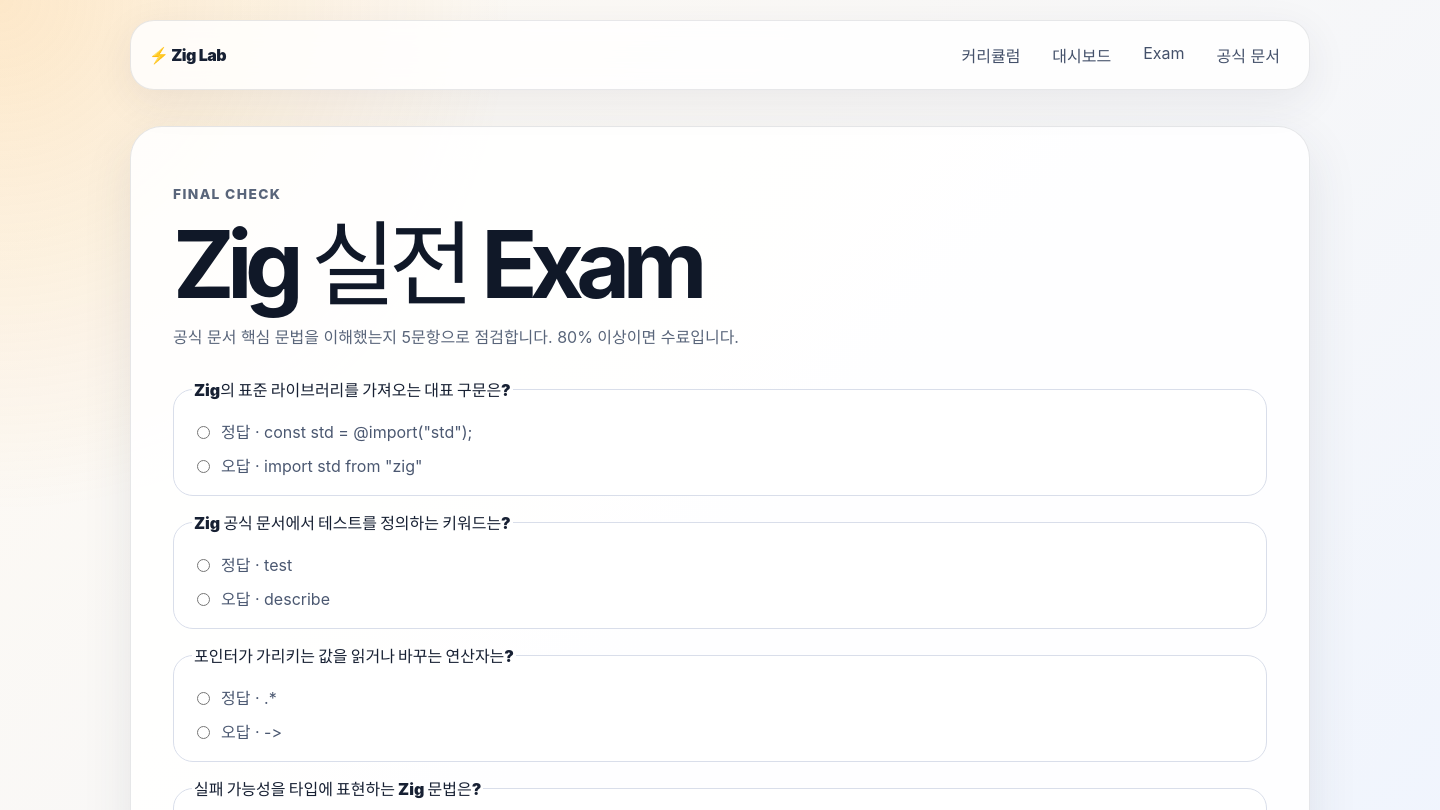
Test: Zig Learning Lab › shows exam explanations and next-study guidance after a failed attempt
The width and height of the screenshot is (1440, 810).
Click the radio button labelled "오답 · import std from \"zig\"".
click(204, 467)  # box top-left (197, 460), bottom-right (210, 473)
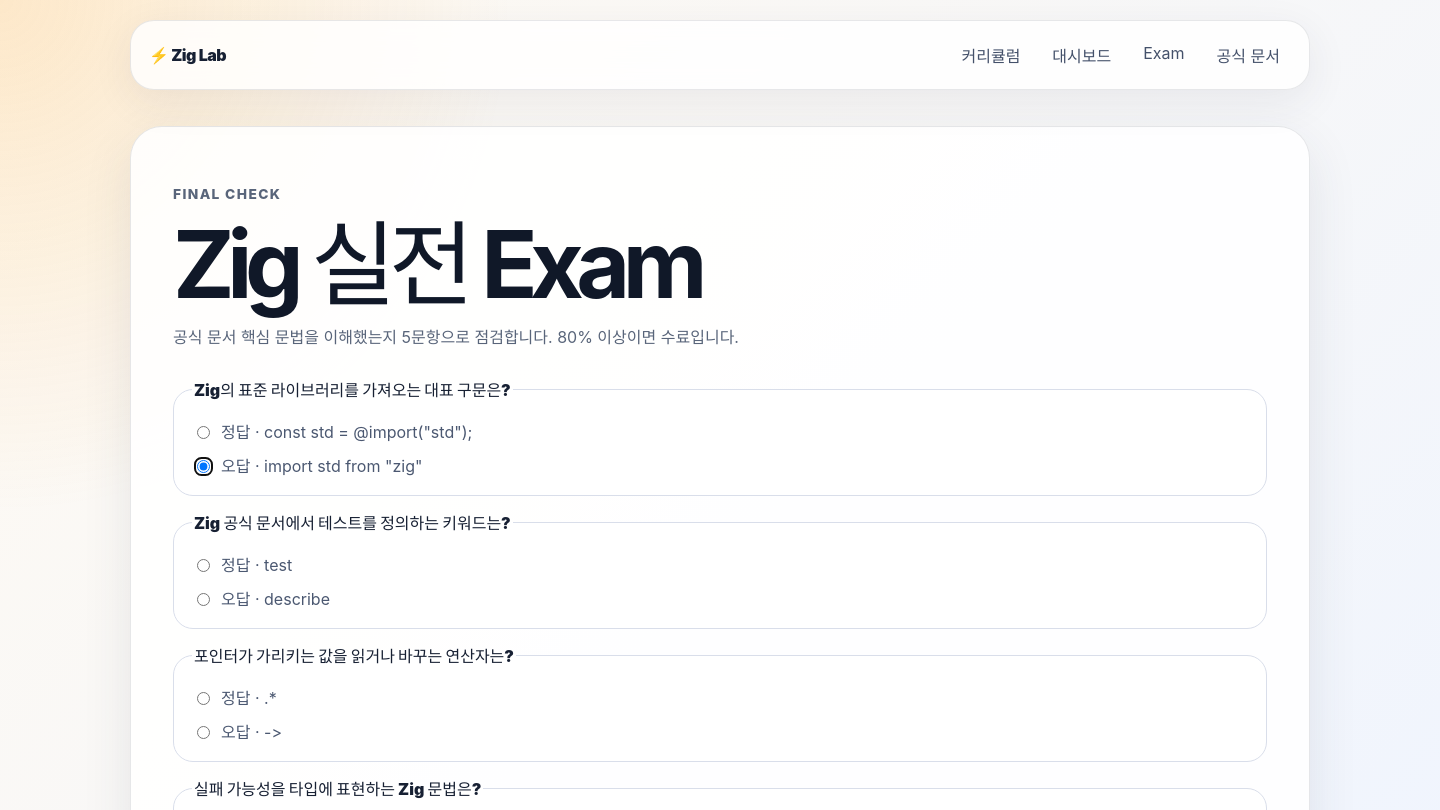
Click the radio button labelled "오답 · describe".
click(204, 600)  # box top-left (197, 593), bottom-right (210, 606)
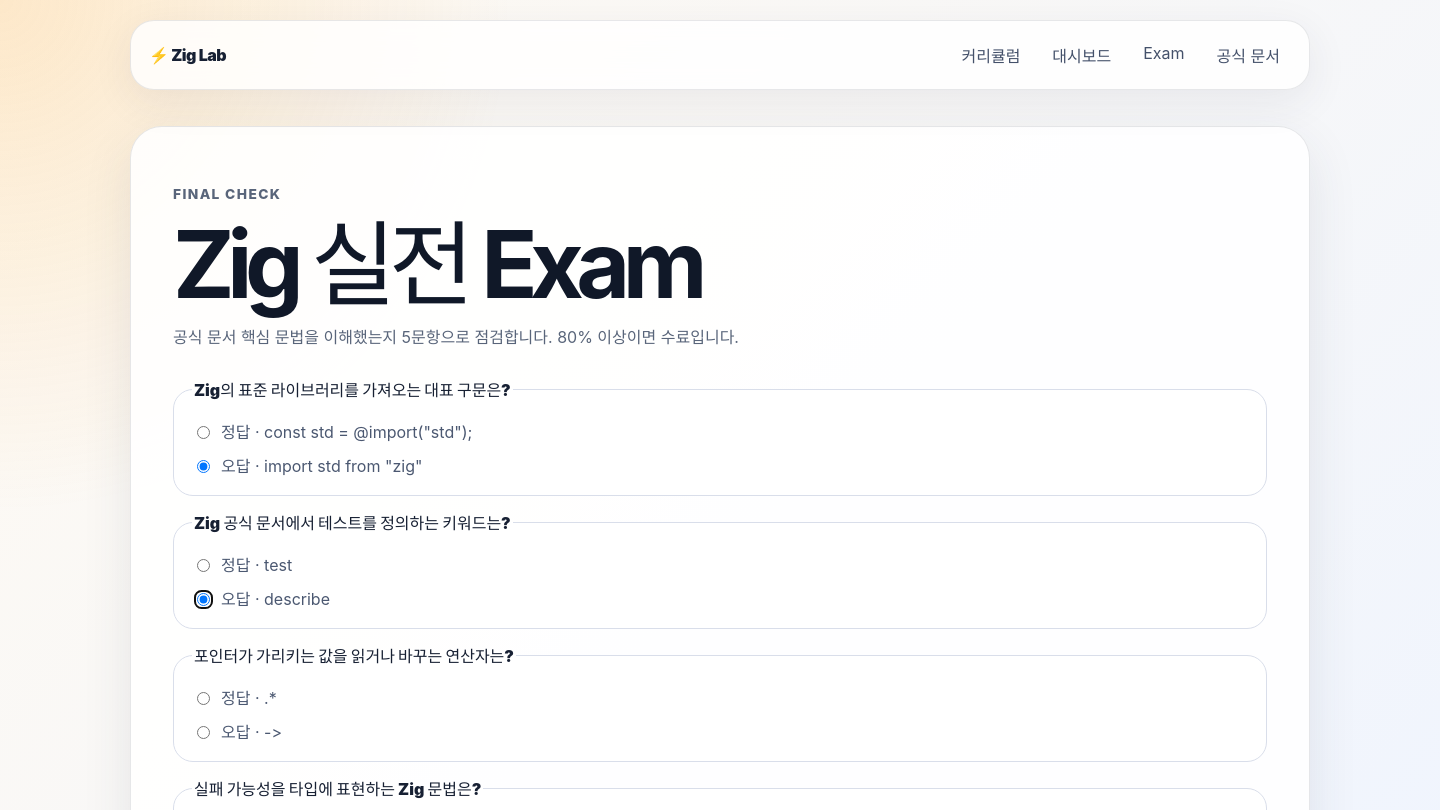
Click the radio button labelled "오답 · ->".
click(204, 733)  # box top-left (197, 726), bottom-right (210, 739)
(page scrolled)
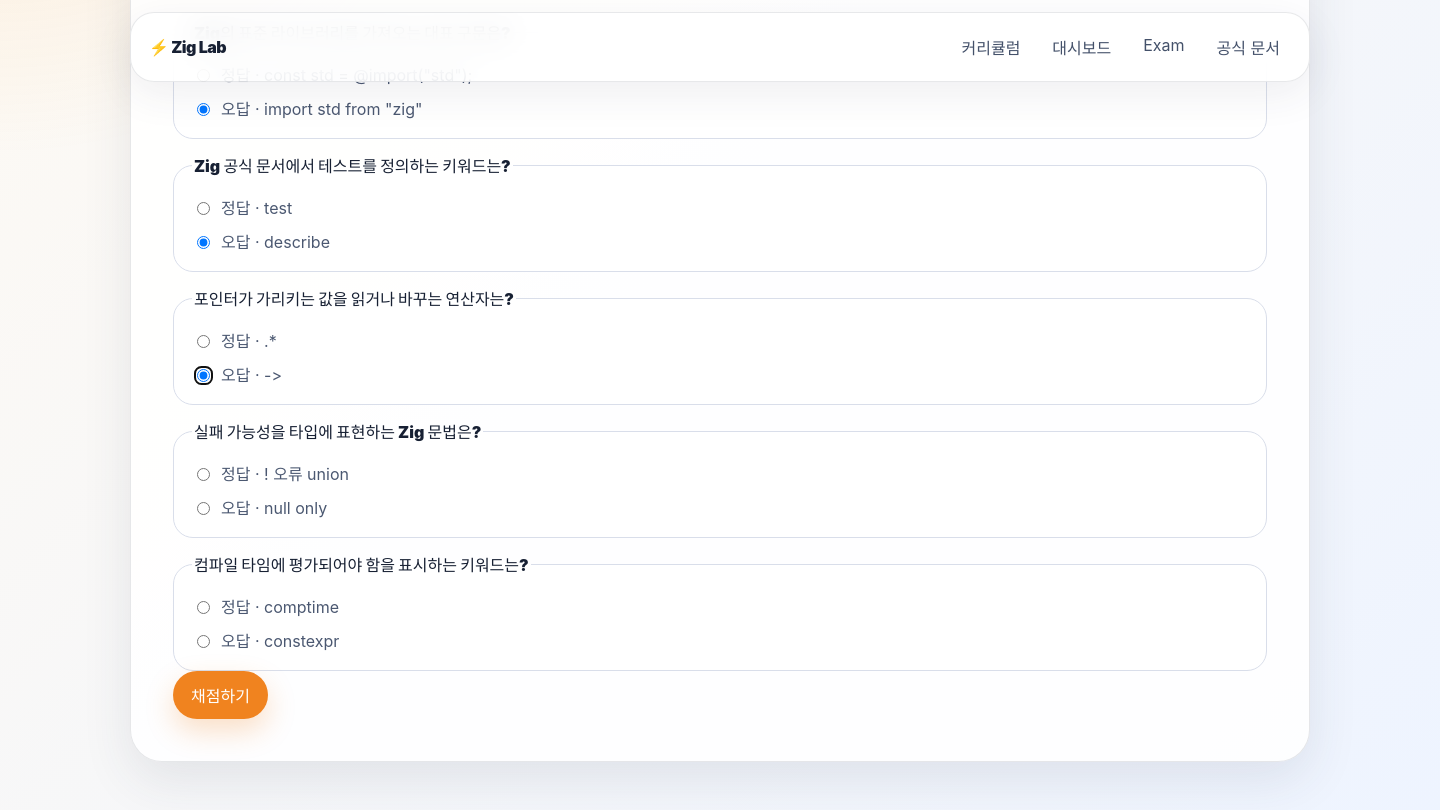
Click the radio button labelled "오답 · null only".
click(204, 509)  # box top-left (197, 502), bottom-right (210, 515)
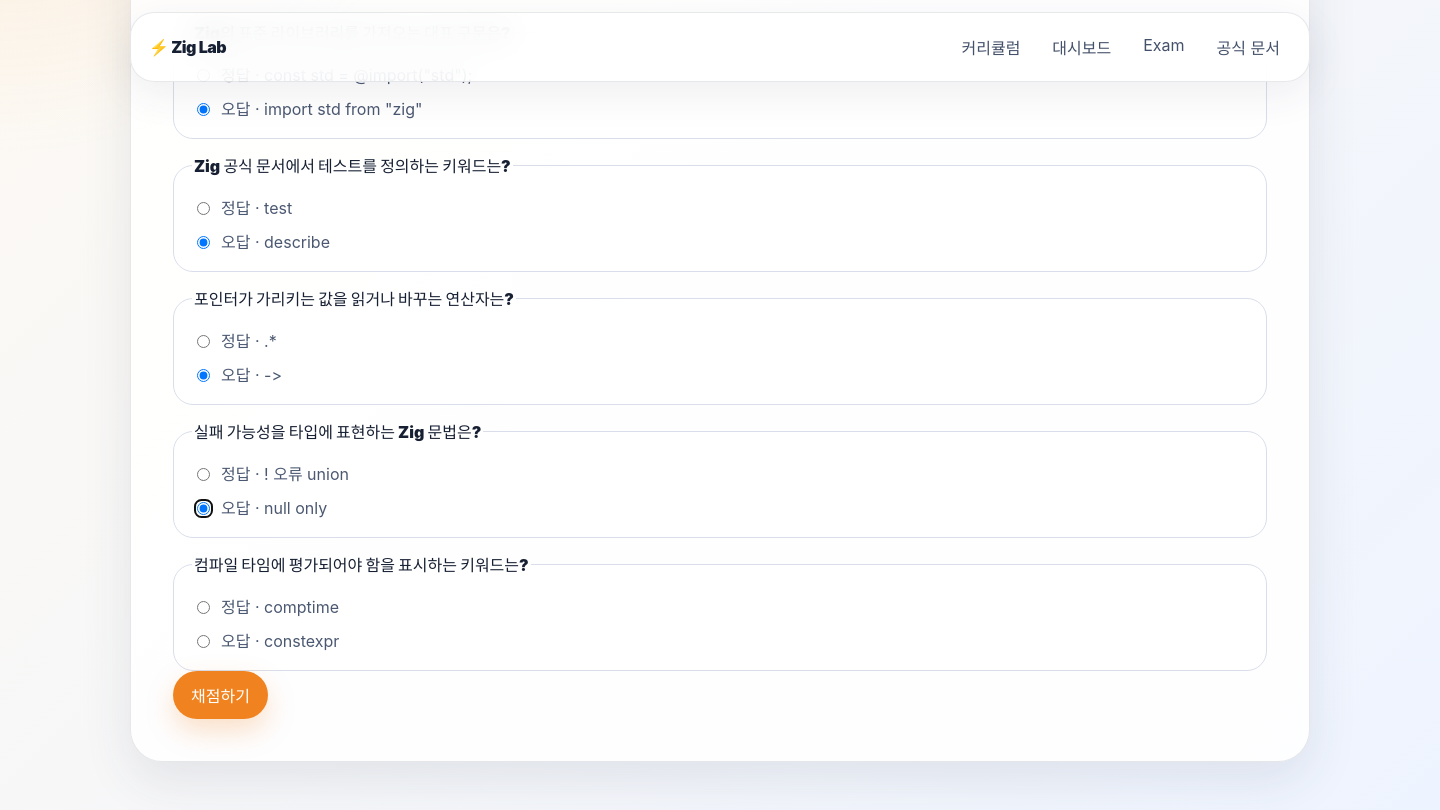
Click the radio button labelled "오답 · constexpr".
click(204, 642)  # box top-left (197, 635), bottom-right (210, 648)
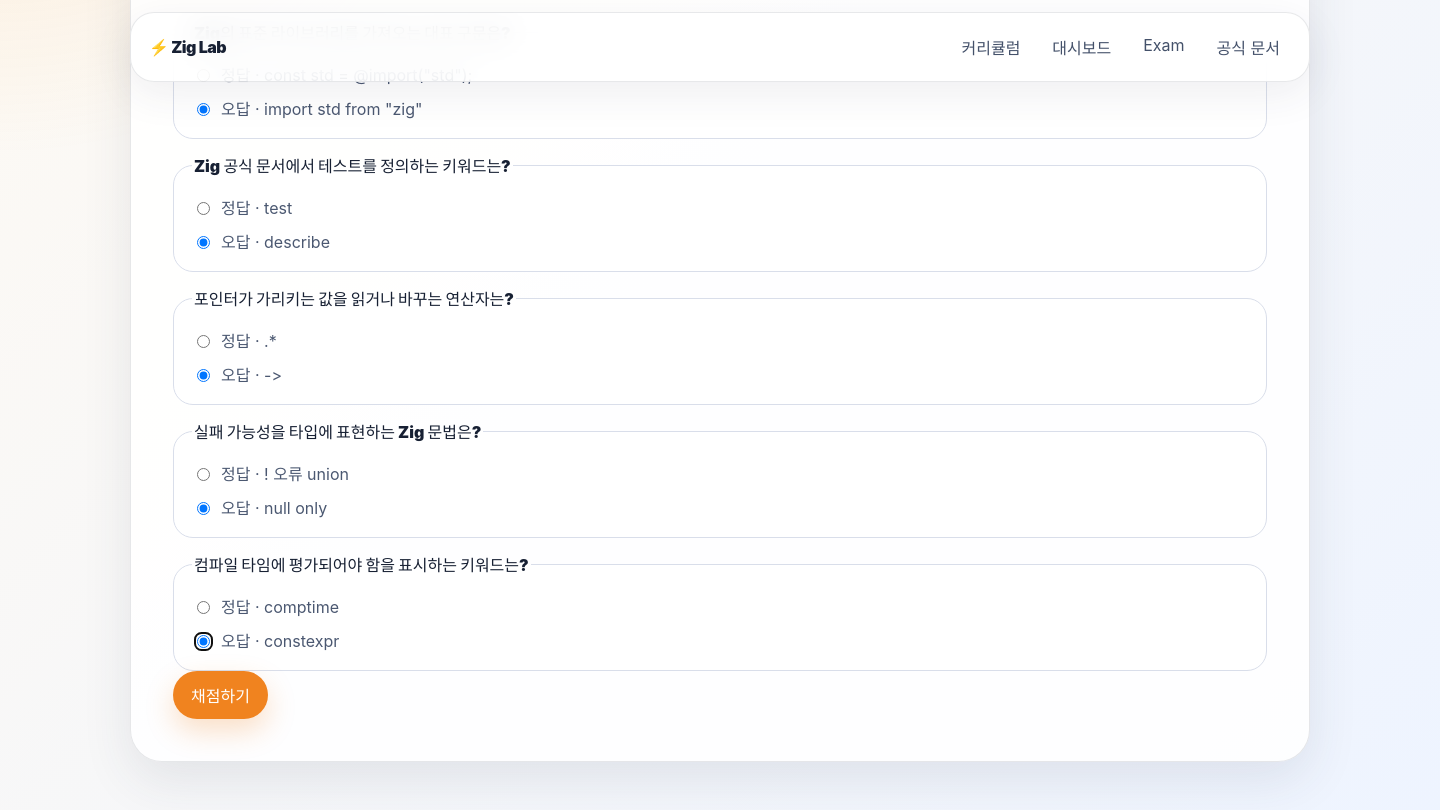
Click the button "채점하기".
click(220, 695)  # box top-left (173, 671), bottom-right (268, 719)
(page scrolled)
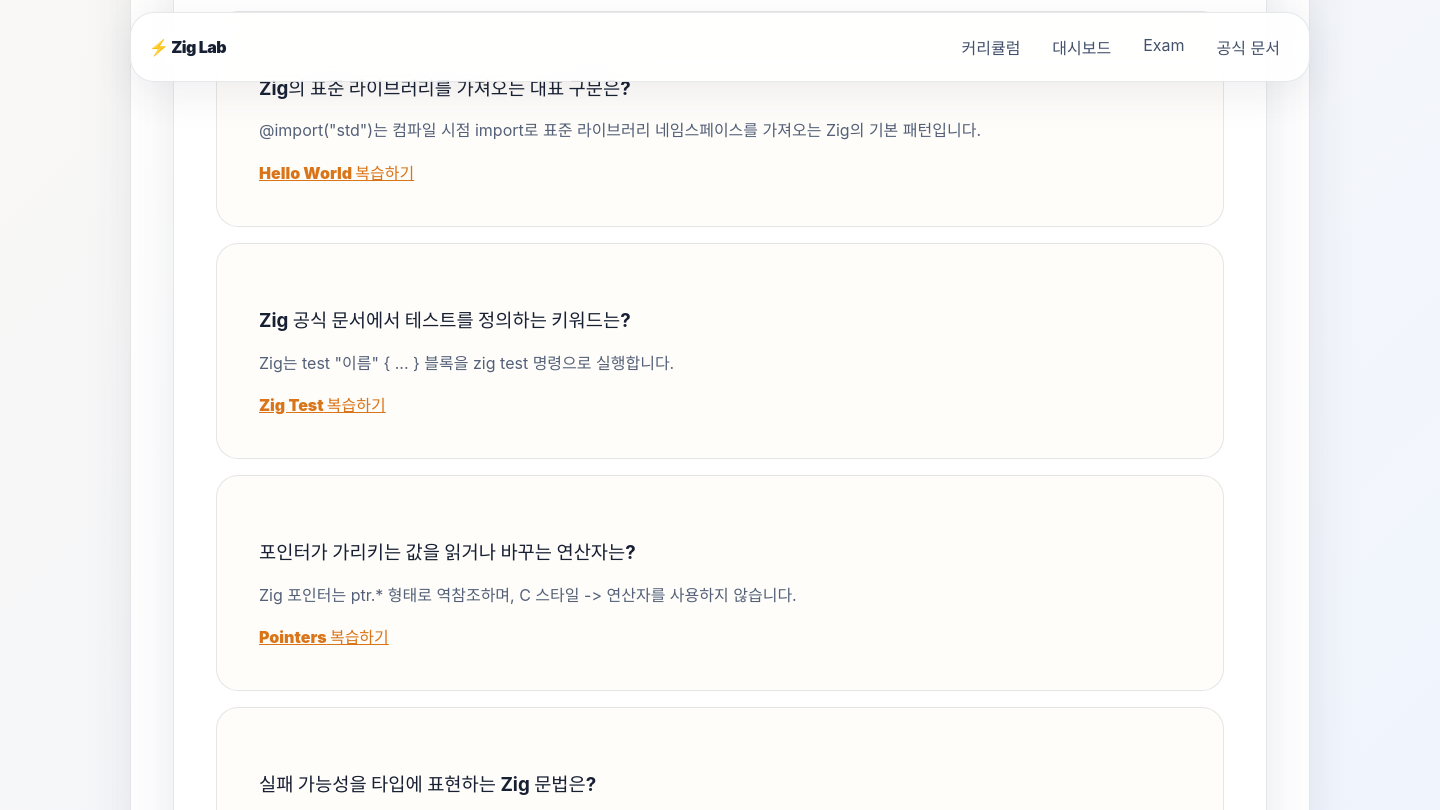
expect the text "@import(\"std\")는 컴파일 시점 import" is shown: met, box top-left (259, 120), bottom-right (981, 140)
